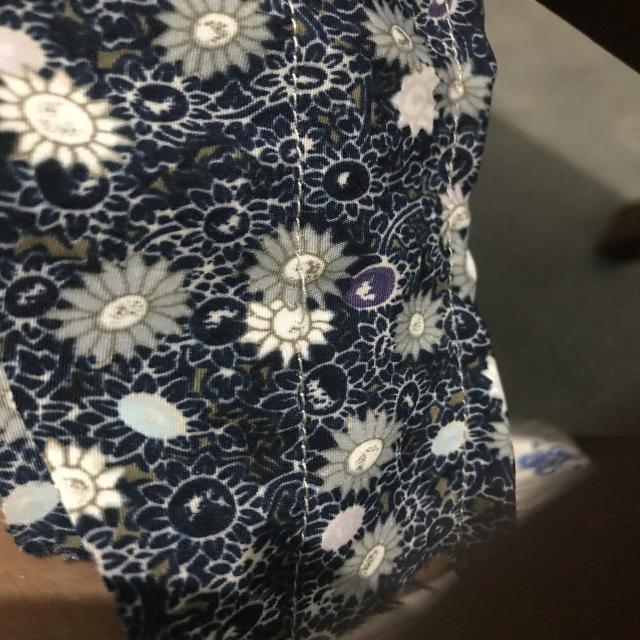skip: (278, 246, 316, 340)
